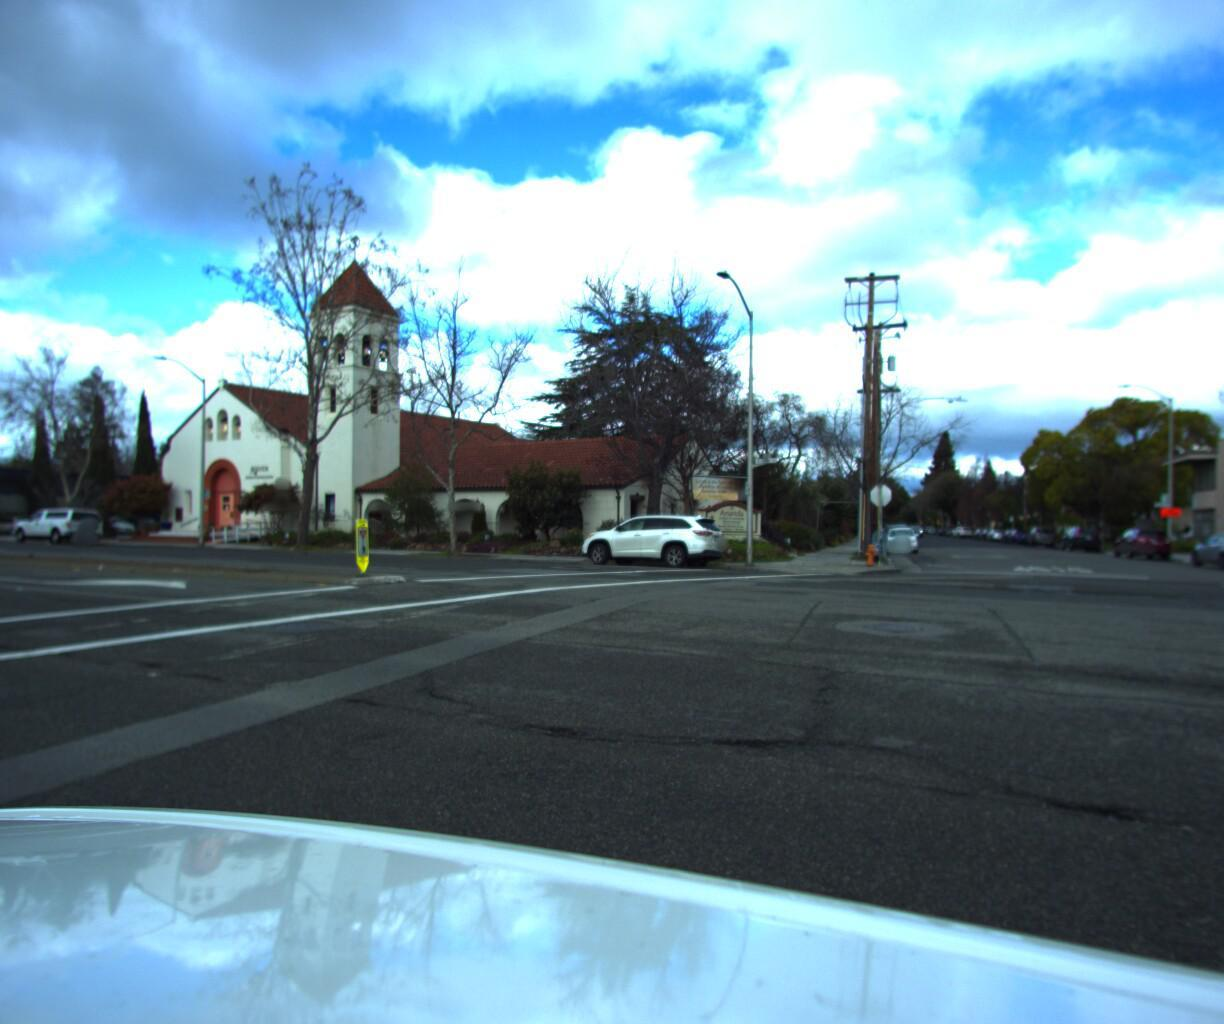car: (567, 507, 731, 569), (4, 502, 105, 543), (1109, 519, 1177, 555), (1182, 523, 1224, 567), (1058, 518, 1104, 545), (884, 518, 920, 549), (1025, 519, 1058, 539), (1007, 519, 1034, 537)
